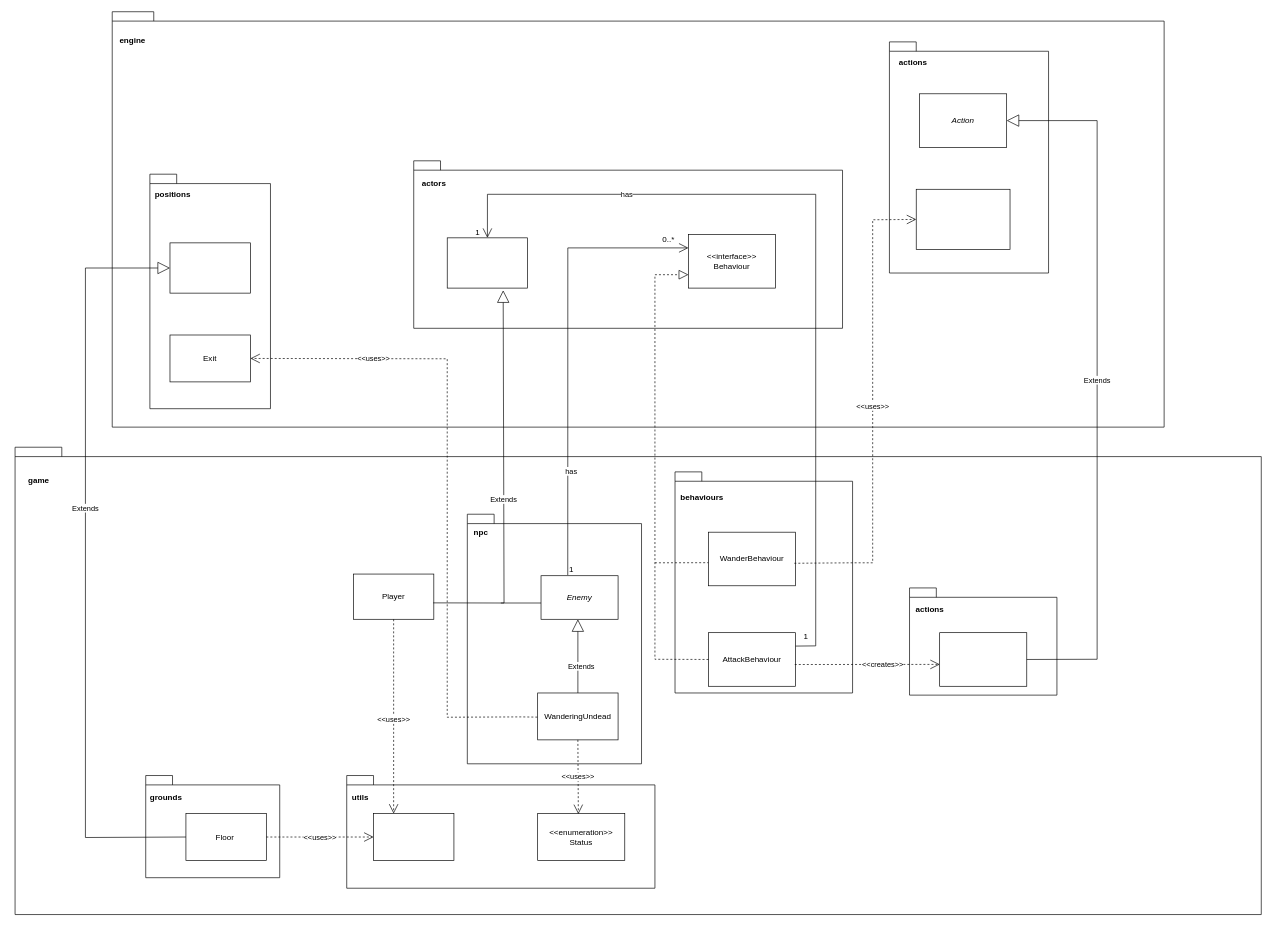
This 1273x927 diagram has some shape labels left out. Here are the shapes that lost their labels. From the top down, the centre of each, then its label:
(x=963, y=219): MoveActorAction
(x=209, y=267): Ground
(x=487, y=262): Actor
(x=983, y=659): AttackAction
(x=413, y=836): <<enumeration>> Ability
